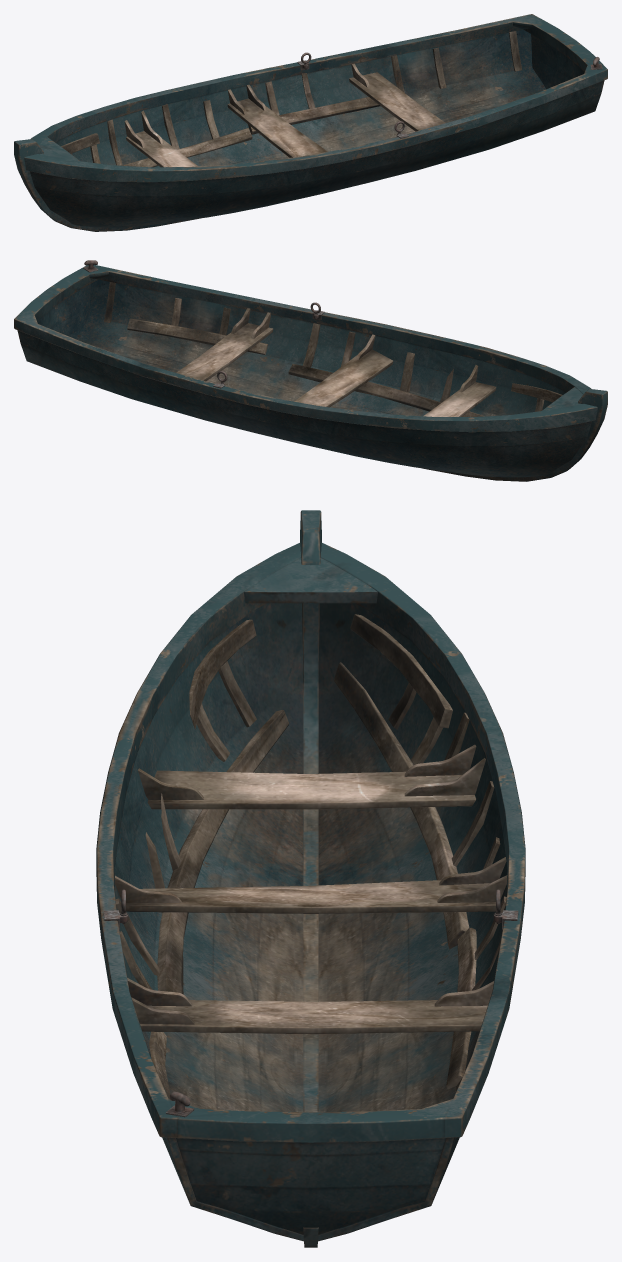
Rendered from half_life_2_inspired_boat.glb.
3 views of the same model, one above another, from view 1: azimuth 30°, elevation 25°; view 2: azimuth 150°, elevation 25°; view 3: azimuth 270°, elevation 25° (orthographic). The views are drawn at different scales.
Parts seen in each view (by area): view 1: Main_LP.002, Seat_LP, Planks_LP, Ribs_LP, Corner_LP; view 2: Main_LP.002, Seat_LP, Planks_LP, Ribs_LP, Corner_LP; view 3: Main_LP.002, Seat_LP, Planks_LP, Corner_LP, Ribs_LP.
Part boxes in pixels (x1,y1,x2,y2): Main_LP.002: [14, 14, 607, 231]; Seat_LP: [126, 72, 445, 167]; Planks_LP: [61, 97, 380, 167]; Ribs_LP: [71, 31, 521, 165]; Corner_LP: [124, 63, 369, 147]; Main_LP.002: [14, 264, 607, 481]; Seat_LP: [176, 323, 496, 416]; Planks_LP: [127, 318, 562, 416]; Ribs_LP: [104, 282, 544, 411]; Corner_LP: [231, 308, 478, 392]; Main_LP.002: [96, 510, 525, 1247]; Seat_LP: [126, 770, 495, 1034]; Planks_LP: [149, 614, 476, 1098]; Corner_LP: [115, 744, 507, 1024]; Ribs_LP: [115, 661, 506, 1090].
Size of the model in its own units: 2.17 by 0.4538 by 0.7202.
Materials: 1 (1 with a texture image).
